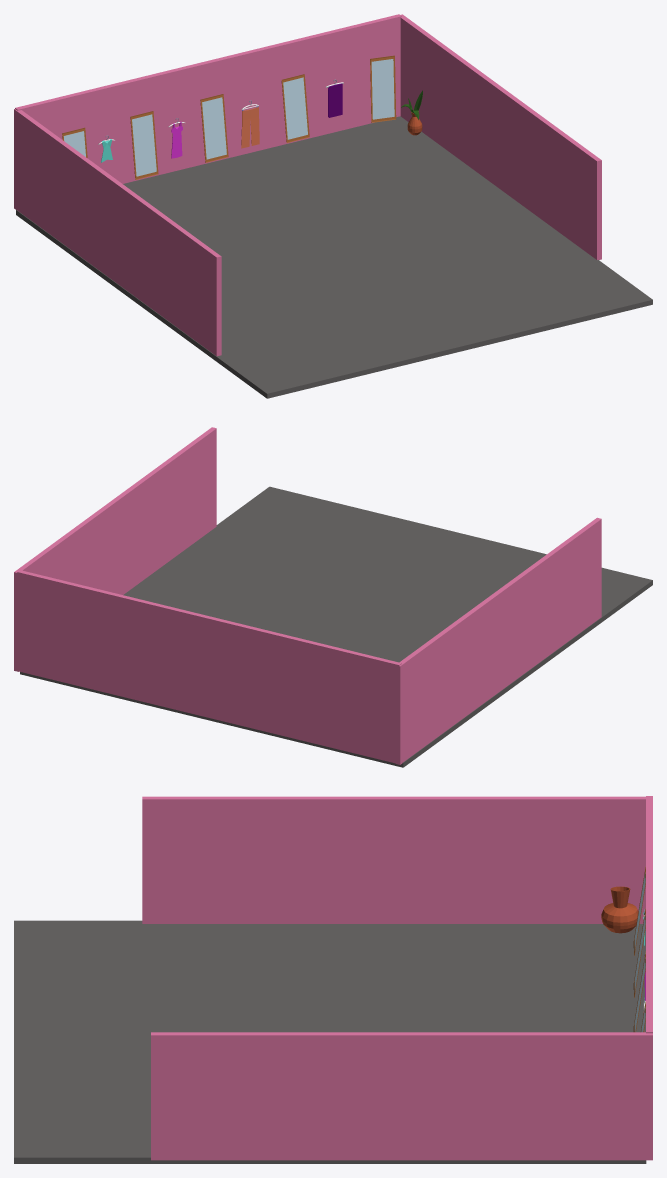
The model's file is SHOP.fbx.
The picture shows the model from 3 angles, top to bottom: view 1: azimuth 30°, elevation 25°; view 2: azimuth 150°, elevation 25°; view 3: azimuth 270°, elevation 25°; orthographic projection. The views are drawn at different scales.
Visible parts, largest first — view 1: Ground, Wall2, Wall1, Wall1.001, Wall2.001, Mirror-Glass, Mirror-Glass.003, Mirror-Glass.004, Mirror-Glass.001, Cube.4; view 2: Ground, Wall2, Wall1, Wall1.001, Wall2.001; view 3: Ground, Wall1.001, Wall1, Wall2, Acs3.
Part boxes in pixels (x1,y1,x2,y2): Ground: (16,116,652,398); Wall2: (15,14,401,183); Wall1: (14,109,221,356); Wall1.001: (400,14,601,259); Wall2.001: (24,17,400,183); Mirror-Glass: (371,59,394,119); Mirror-Glass.003: (202,97,226,159); Mirror-Glass.004: (132,114,156,176); Mirror-Glass.001: (283,77,307,139); Cube.4: (241,100,259,148); Ground: (20,486,652,767); Wall2: (17,570,401,763); Wall1: (396,517,601,764); Wall1.001: (14,427,216,671); Wall2.001: (17,573,401,763); Ground: (14,920,646,1163); Wall1.001: (151,1032,652,1160); Wall1: (142,796,645,923); Wall2: (646,796,652,1033); Acs3: (601,886,638,933).
Size of the model in its own units: 8206 by 2111 by 9270.
